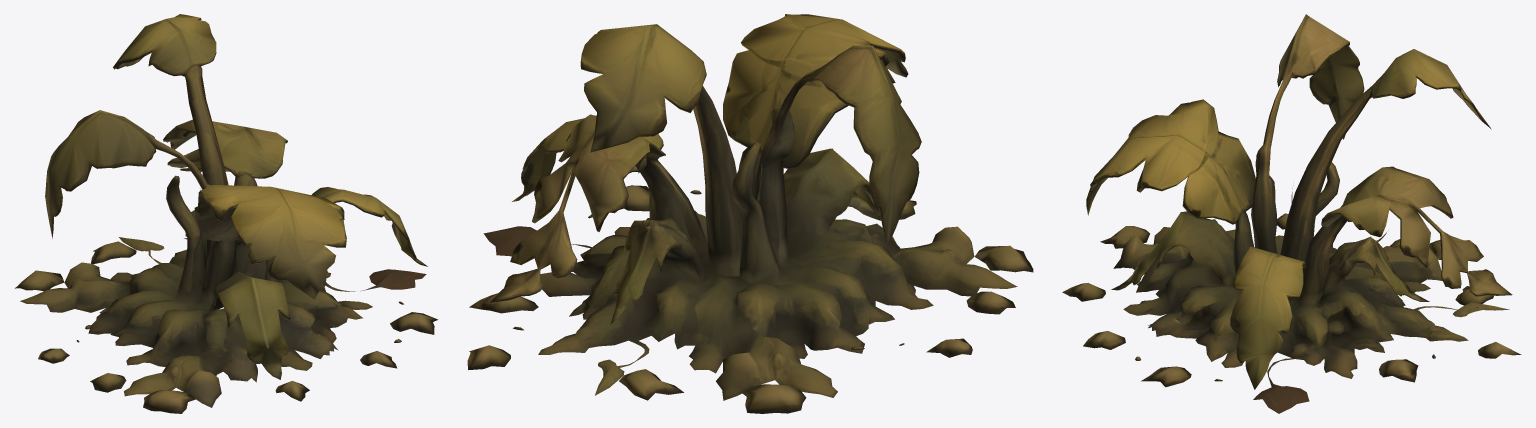
Rendered from SM_Vegetation_LowPolyPlant_02.fbx.
3 renders of one model, left to right at view 1: azimuth 30°, elevation 25°; view 2: azimuth 150°, elevation 25°; view 3: azimuth 270°, elevation 25°, orthographic. The views are drawn at different scales.
Parts seen in each view (by area): view 1: SM_Vegetation_LowPolyPlant_02; view 2: SM_Vegetation_LowPolyPlant_02; view 3: SM_Vegetation_LowPolyPlant_02.
Boxes of the visible parts, x1,y1,x2,y2 form: SM_Vegetation_LowPolyPlant_02: [15, 14, 437, 413]; SM_Vegetation_LowPolyPlant_02: [467, 14, 1033, 413]; SM_Vegetation_LowPolyPlant_02: [1062, 14, 1521, 413].
Size of the model in its own units: 0.998 by 0.6465 by 0.998.
1 material, 1 textured.
